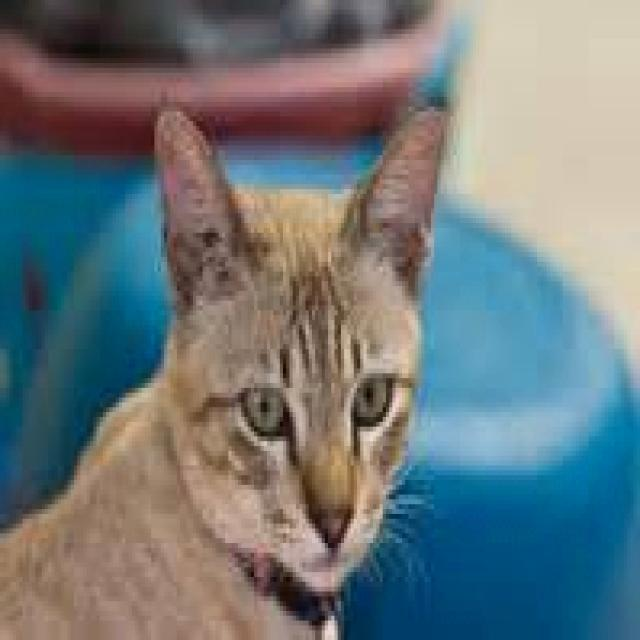KEDI: (0, 103, 453, 640)
